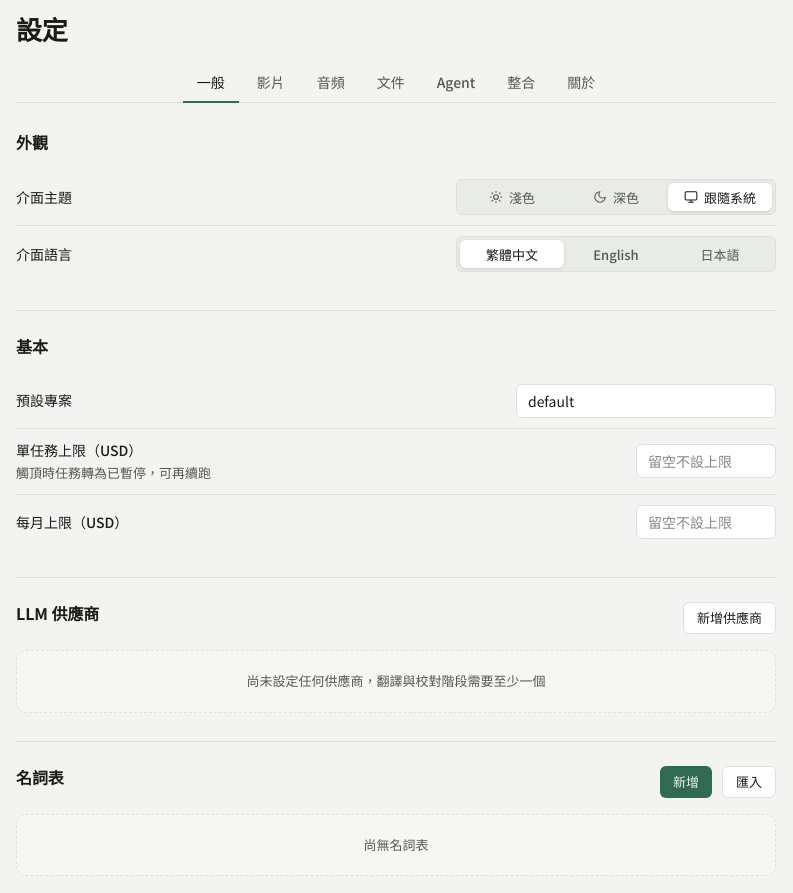
Test: agent tab lists mcp servers with status
Check: the field labelled "預設專案" is shown, box [516,384,776,418]
Click the tab "Agent".
click(456, 84)  # box [423,66,489,103]
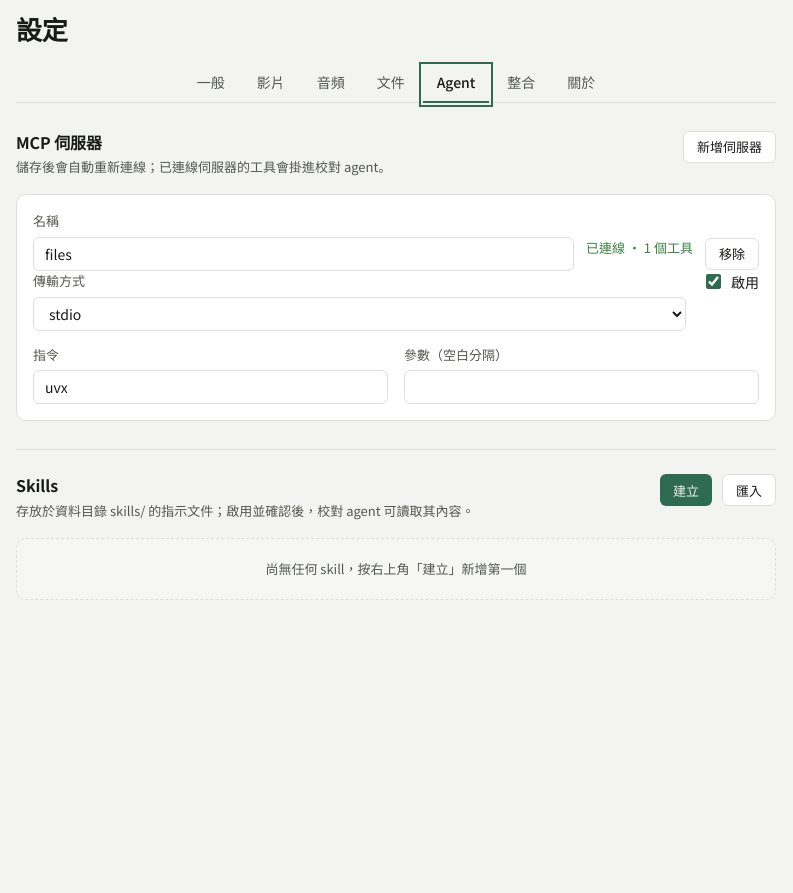
Check: the field showing "files" is shown, box [33,237,574,271]
Check: the text "已連線 · 1 個工具" is shown, box [586,238,693,259]
